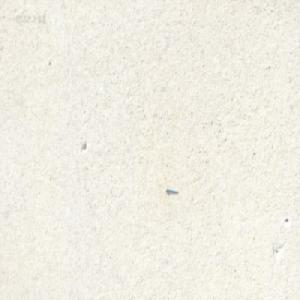Nail: (165, 184, 178, 193)
